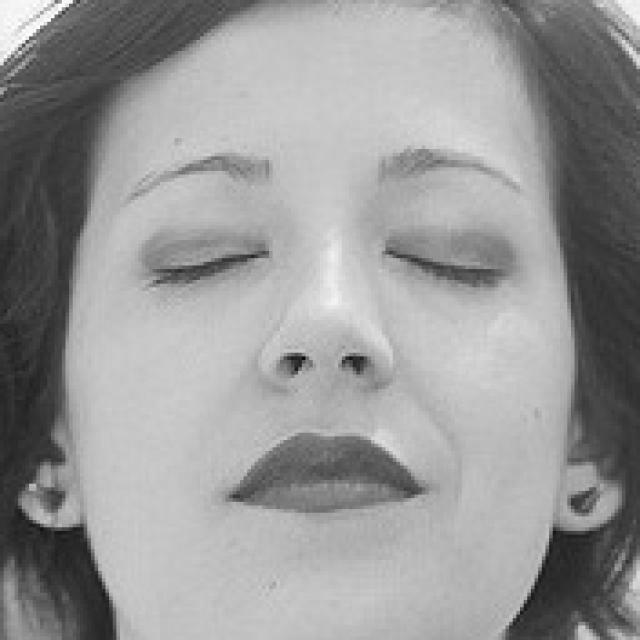real: (73, 14, 551, 615), (134, 172, 552, 316)
